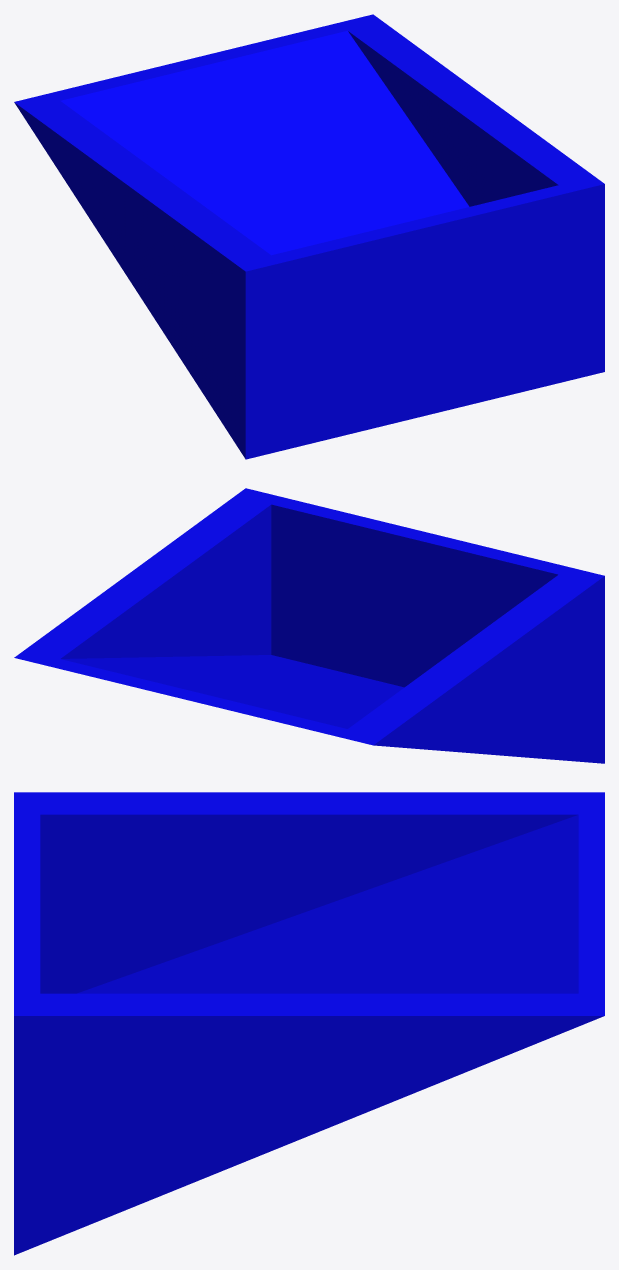
File: TAchito barquidou.obj
The picture shows the model from 3 angles, top to bottom: view 1: azimuth 30°, elevation 25°; view 2: azimuth 150°, elevation 25°; view 3: azimuth 270°, elevation 25°; orthographic projection. The views are drawn at different scales.
Bounding box in the file's own units: 40 × 20 × 44.7.
